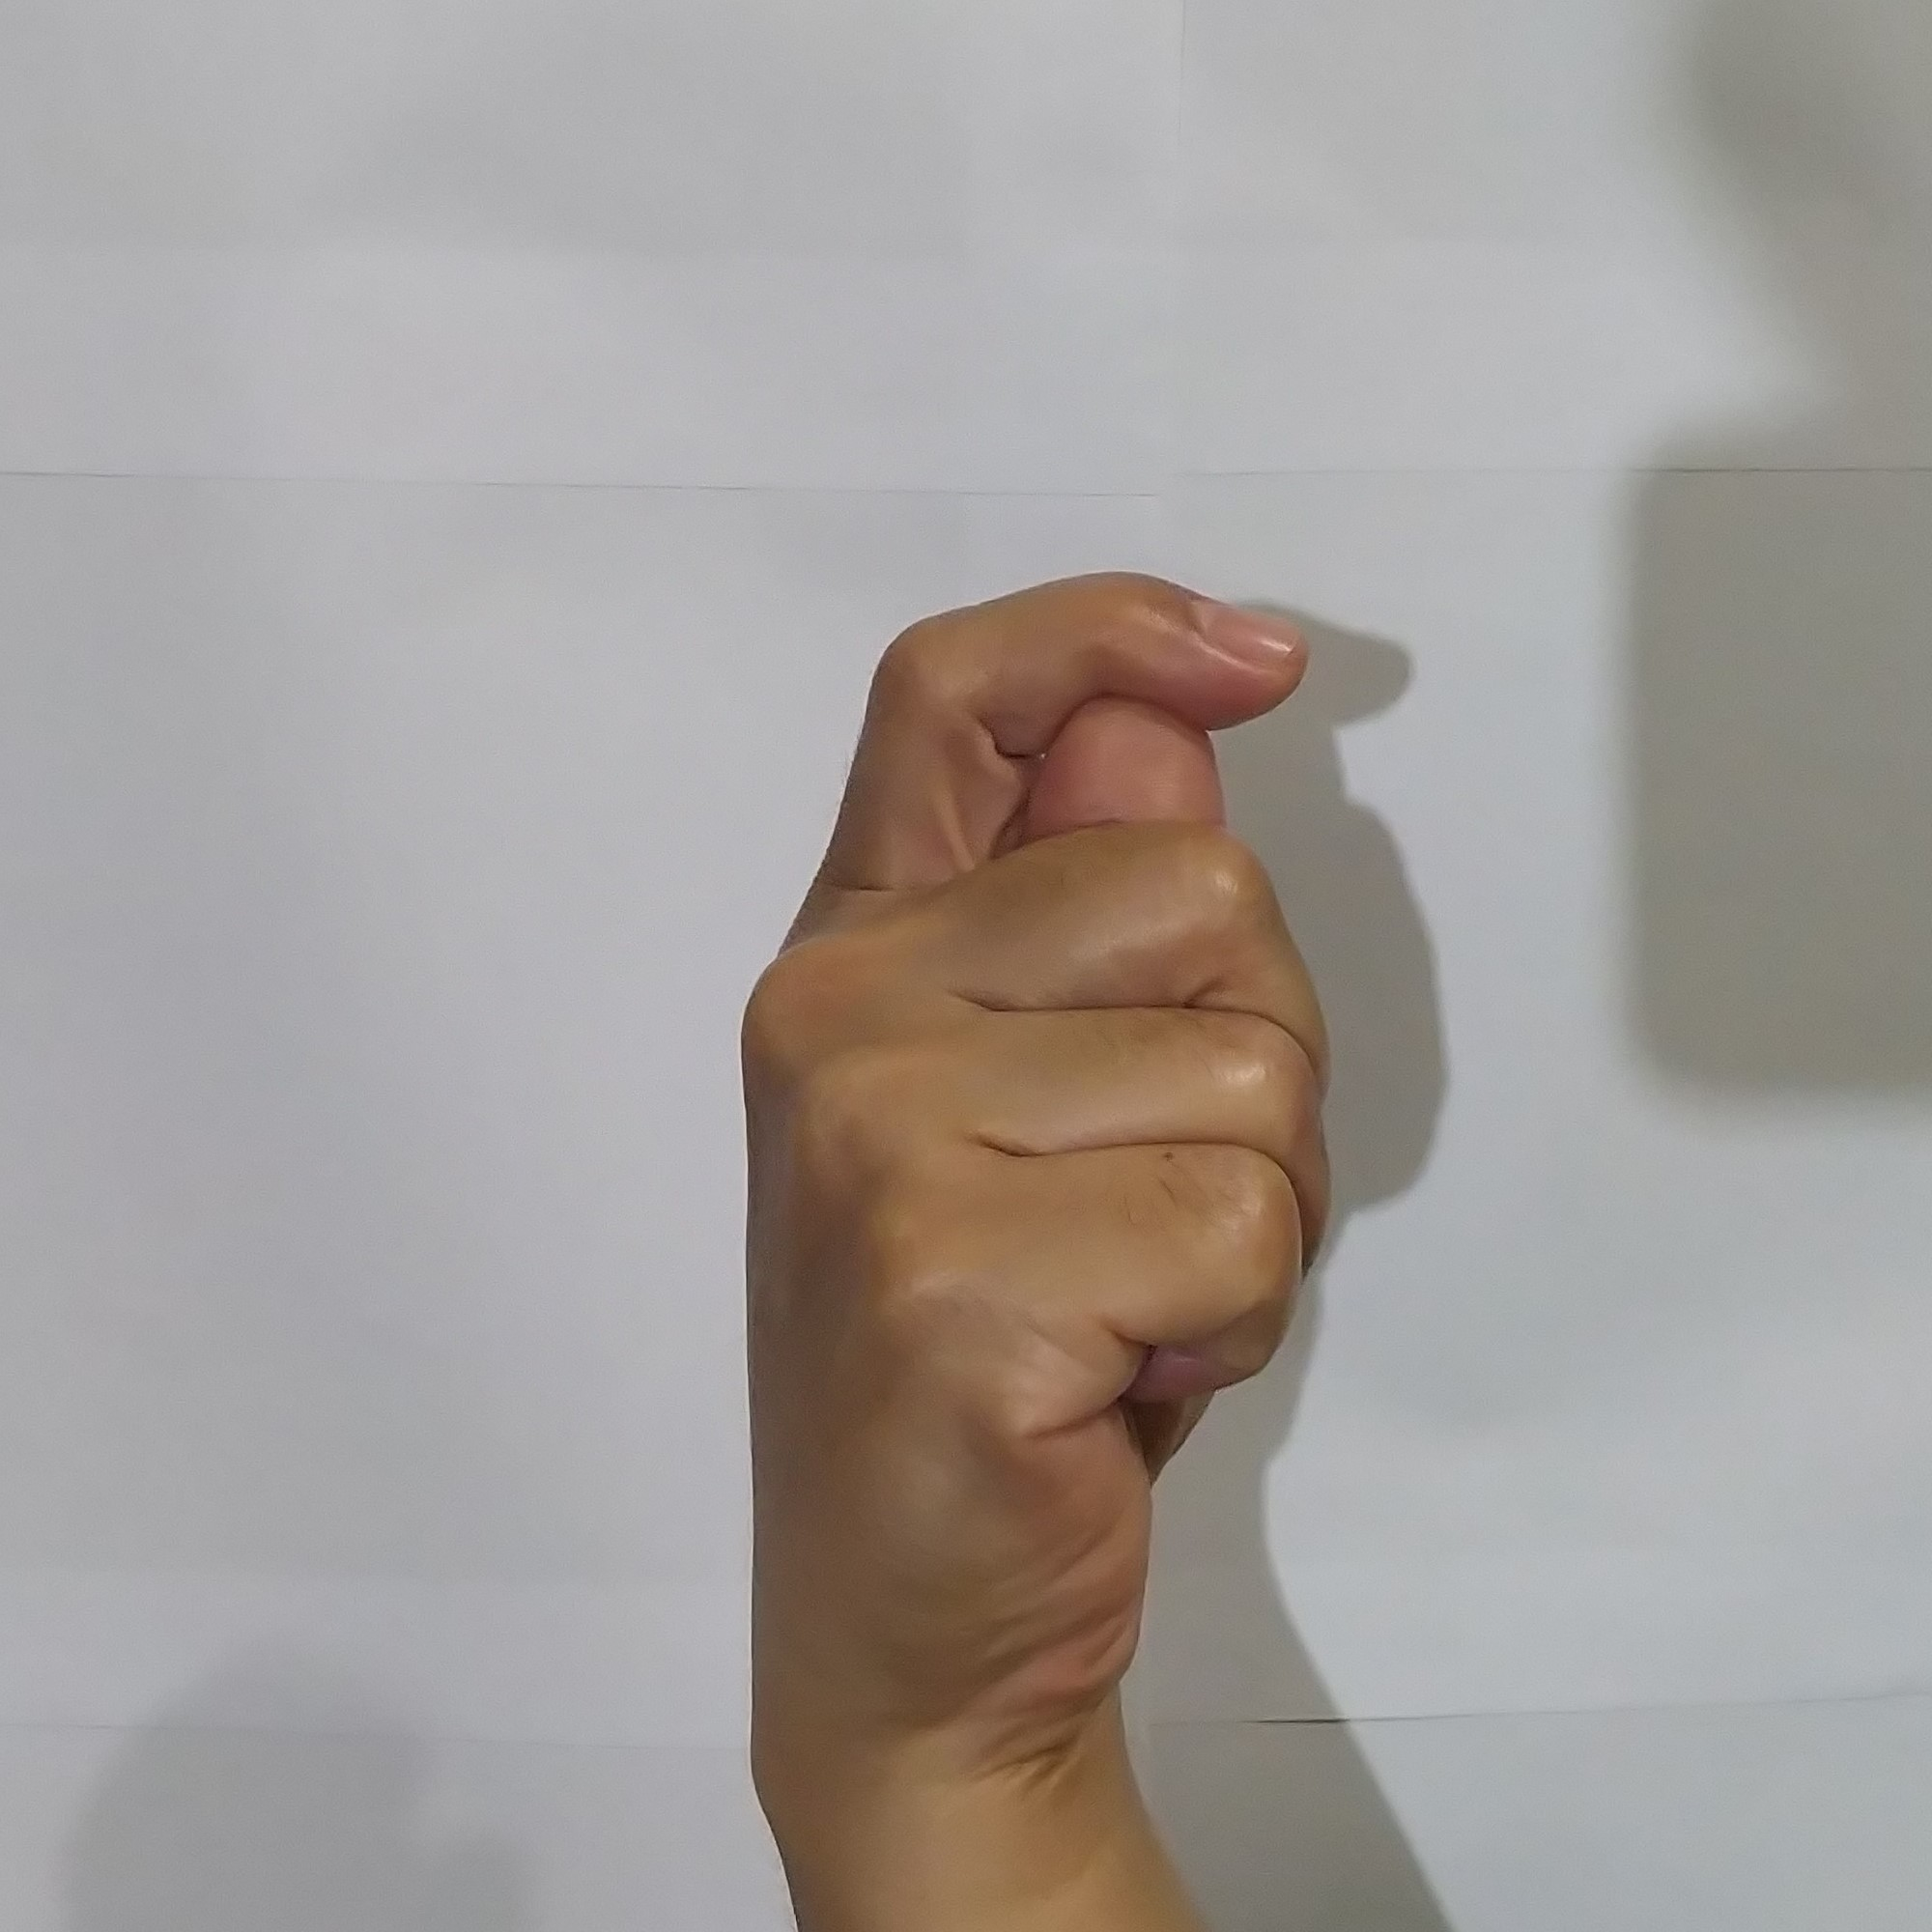T: (701, 540, 1364, 1741)
